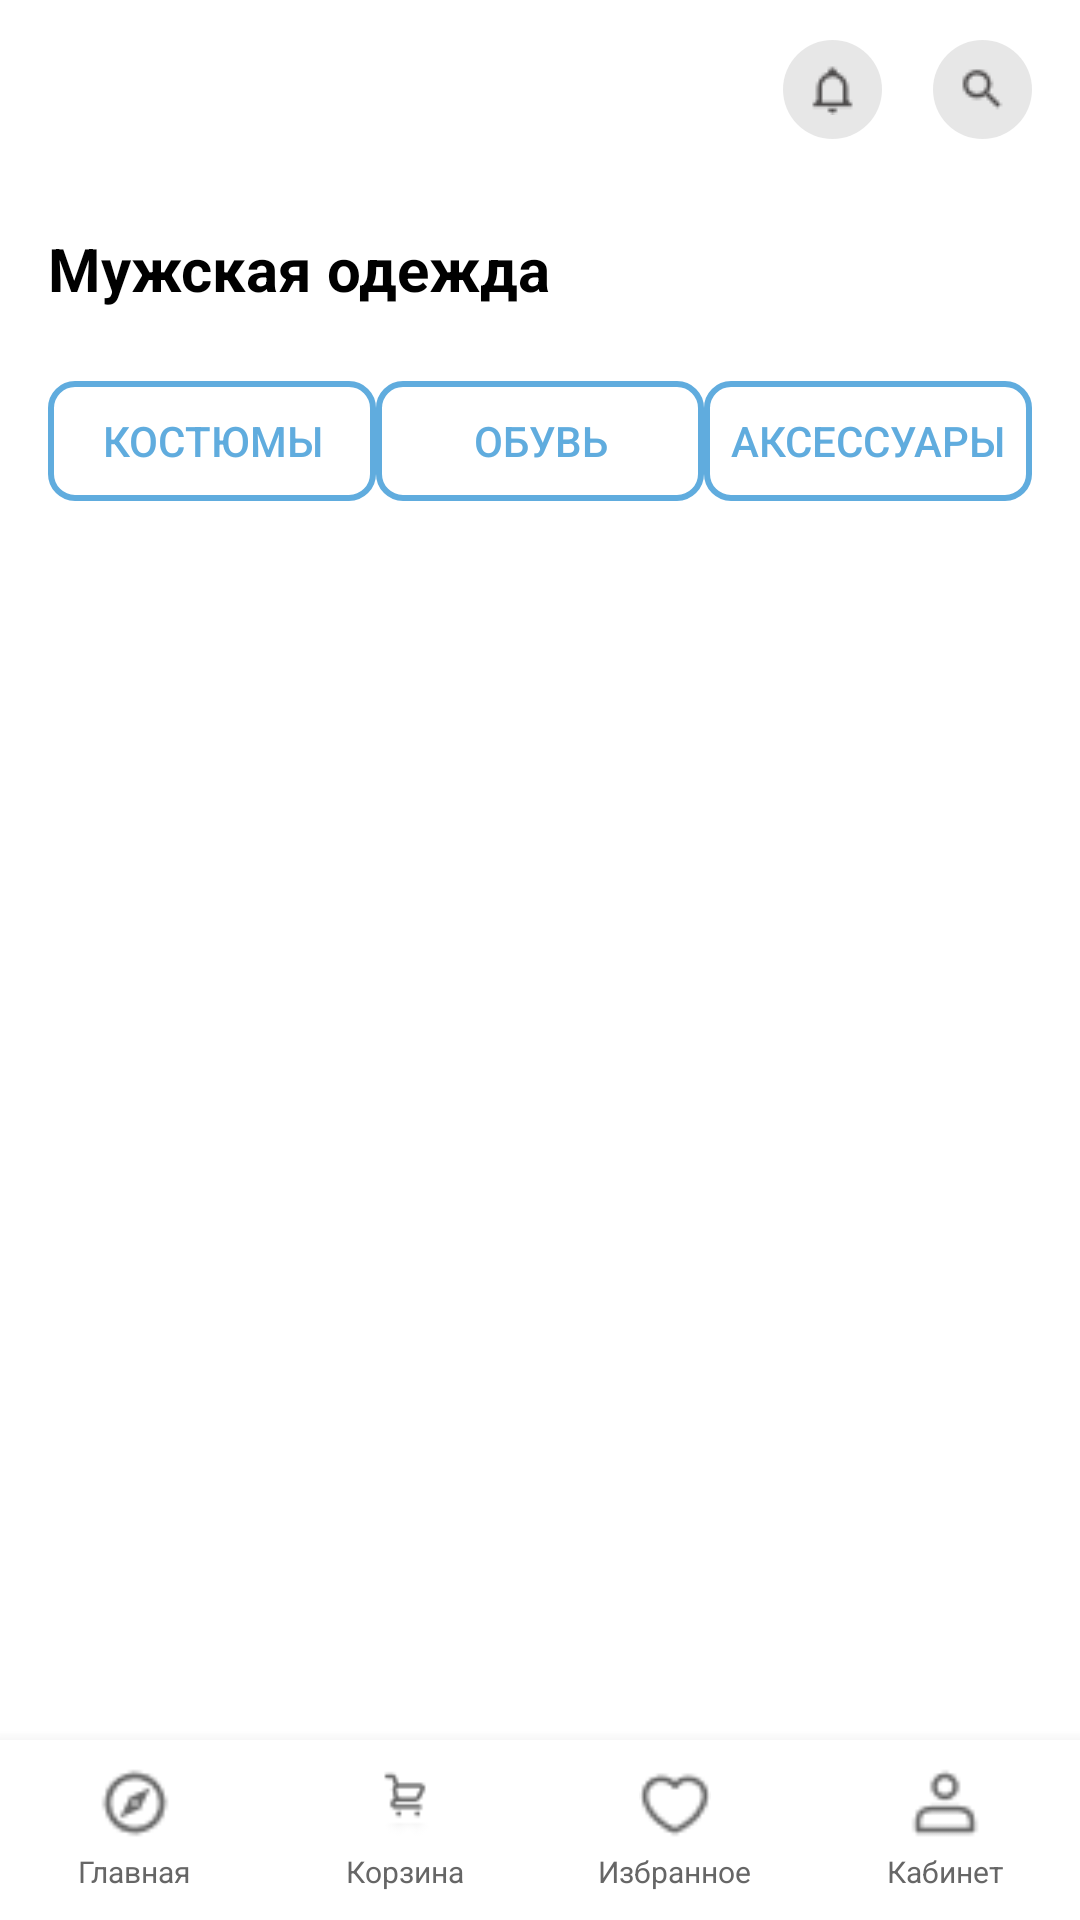

Point at icon controls on the screen. Image size 1080*1920, points as (x=x, y=y).
bell: (x=832, y=90)
cart: (x=405, y=1795)
heart: (x=675, y=1804)
search: (x=982, y=89)
